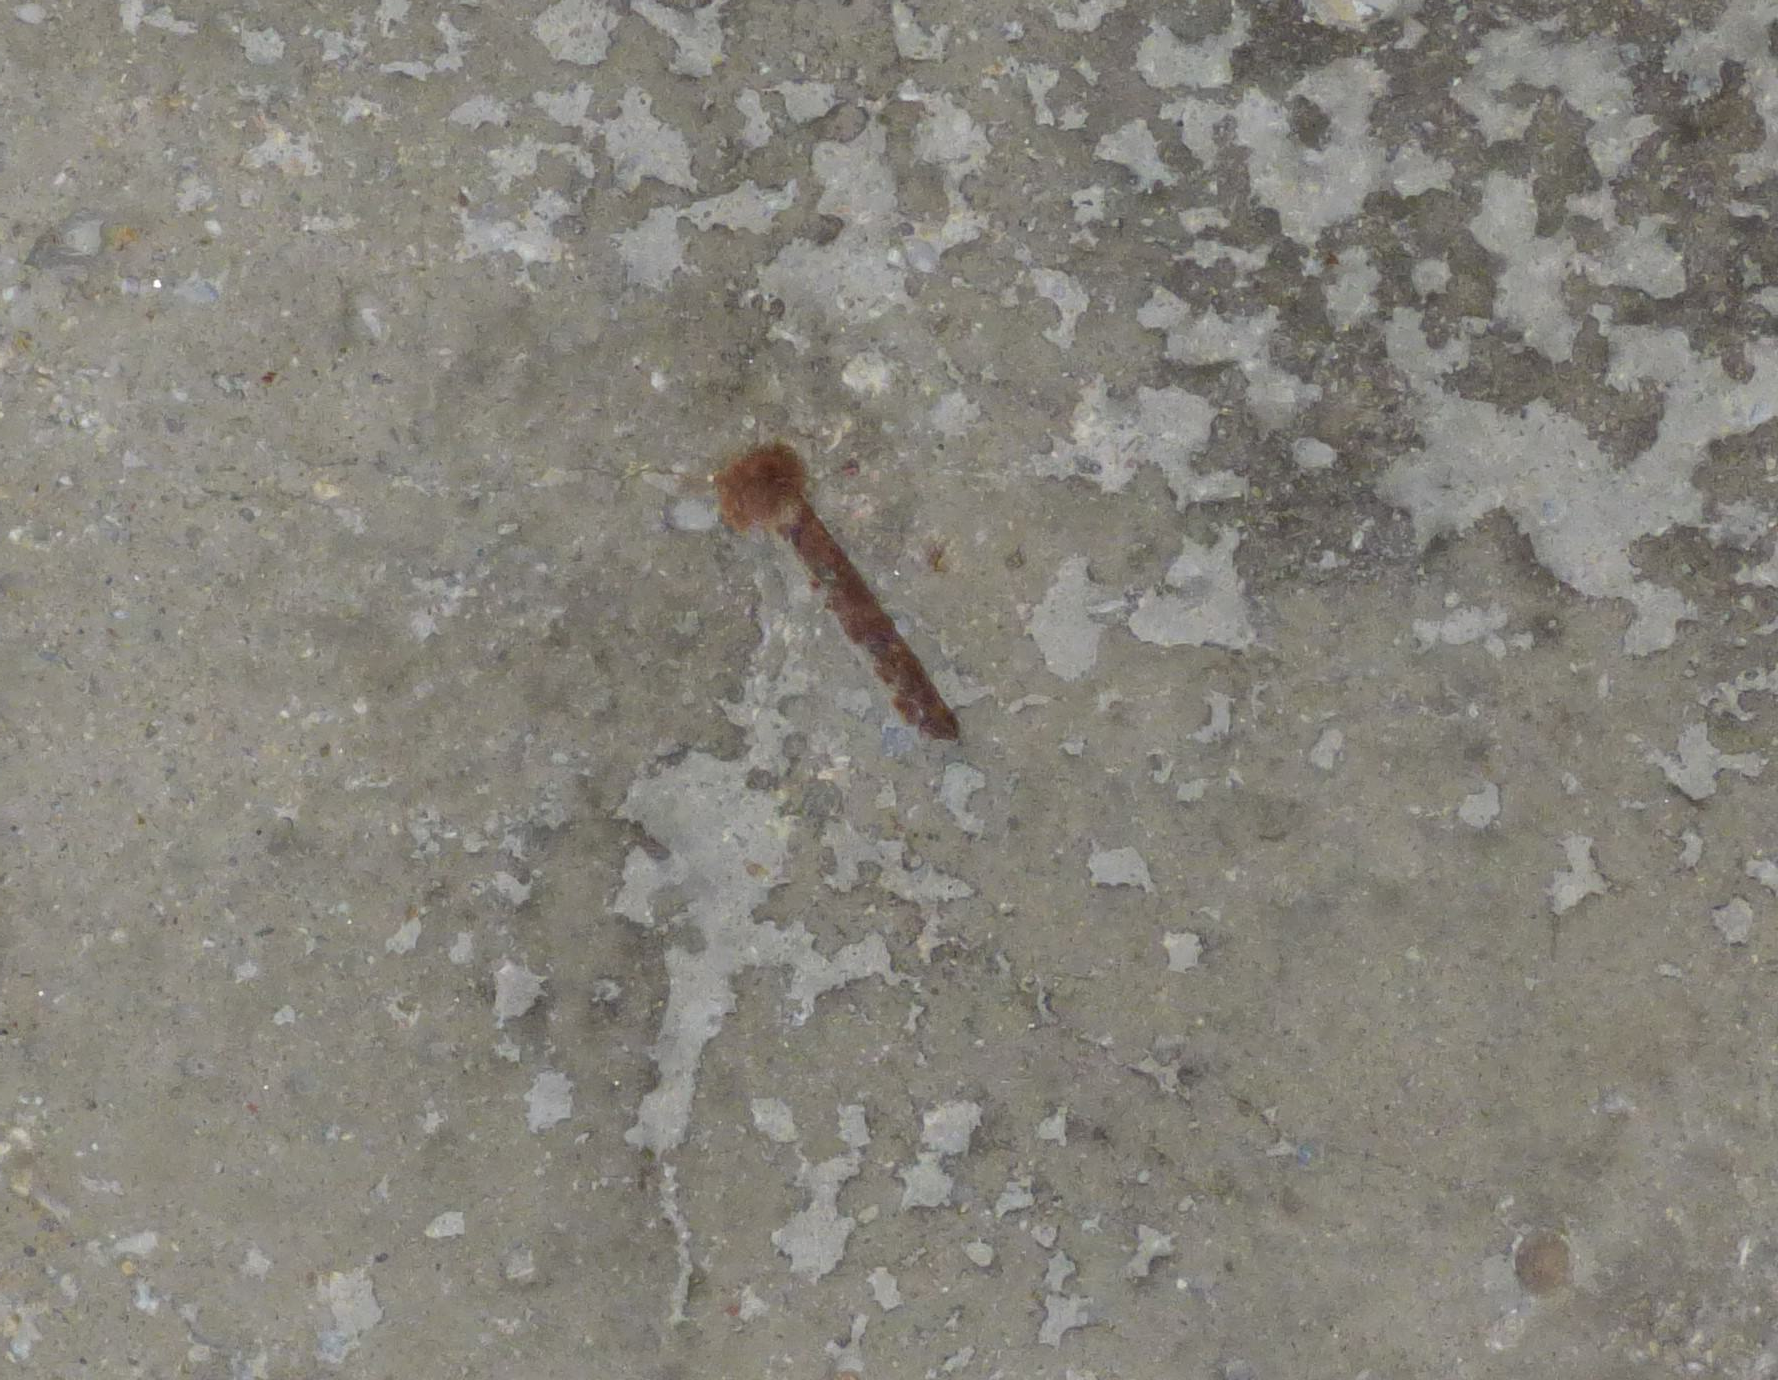Corrosion: (713, 445, 807, 534)
Exposed reinforcement: (761, 482, 961, 742)
